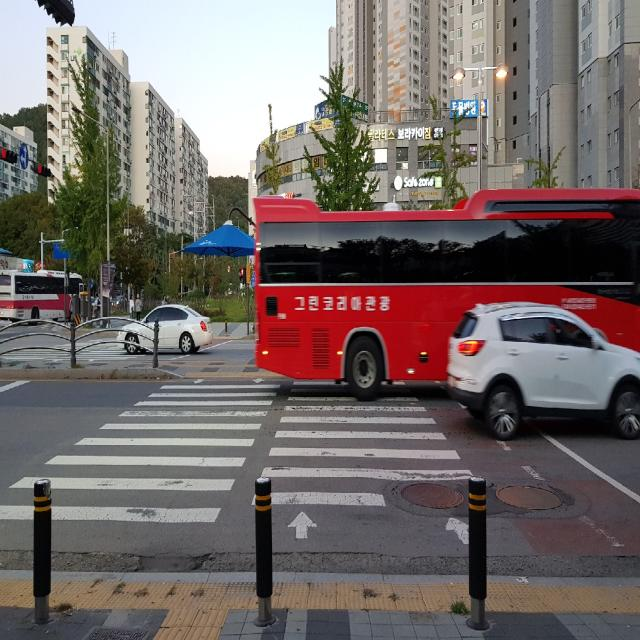빨간불: (240, 269, 244, 283)
횡단보도: (1, 377, 477, 546)
